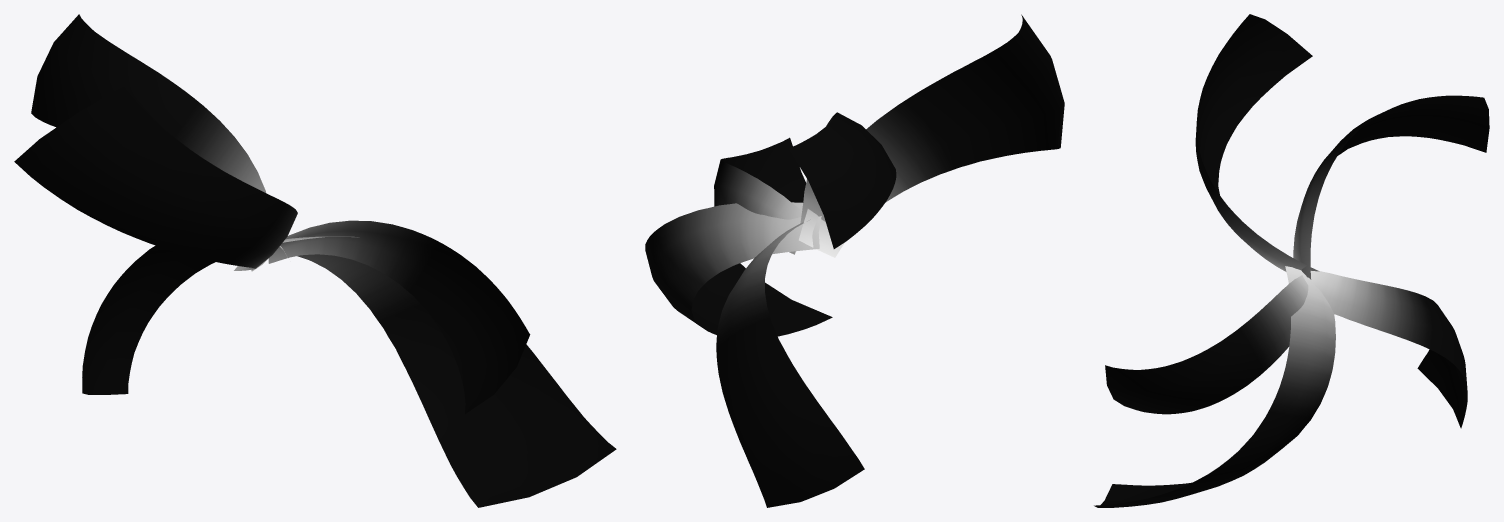
Rendered from Helix_meshes001.fbx.
3 renders of one model, left to right at view 1: azimuth 30°, elevation 25°; view 2: azimuth 150°, elevation 25°; view 3: azimuth 270°, elevation 25°, orthographic. The views are drawn at different scales.
Parts seen in each view (by area): view 1: HElix_Meshes001; view 2: HElix_Meshes001; view 3: HElix_Meshes001.
Part boxes in pixels (x1,y1,x2,y2): HElix_Meshes001: [14, 14, 616, 507]; HElix_Meshes001: [645, 14, 1064, 507]; HElix_Meshes001: [1094, 14, 1489, 507].
Bounding box in the file's own units: 68.31 × 59.95 × 59.35.
Materials: 1 (1 with a texture image).
